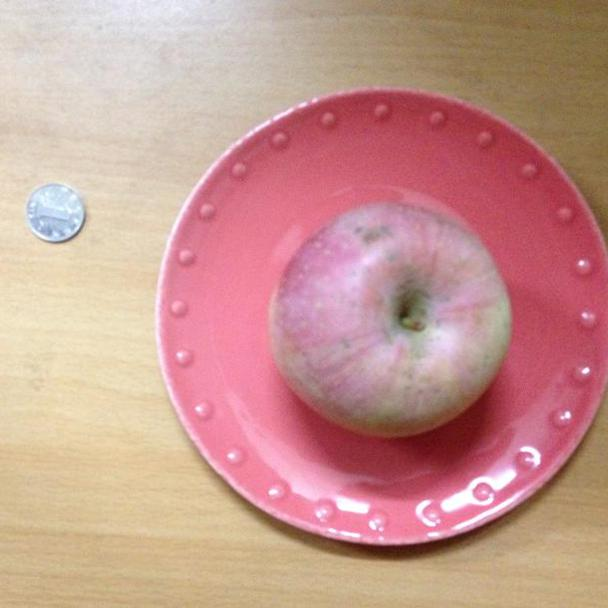apple: (266, 205, 523, 441)
